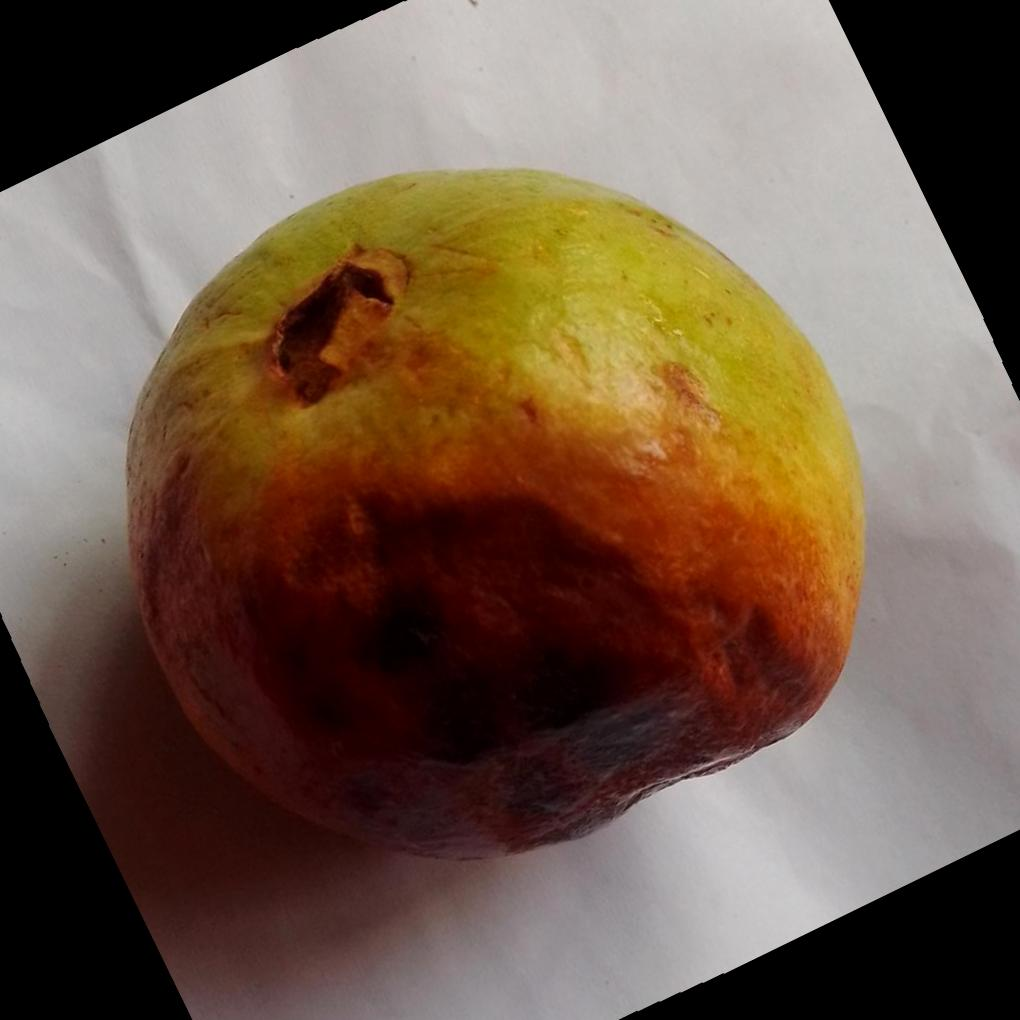FreshOrange: (118, 167, 865, 865)
